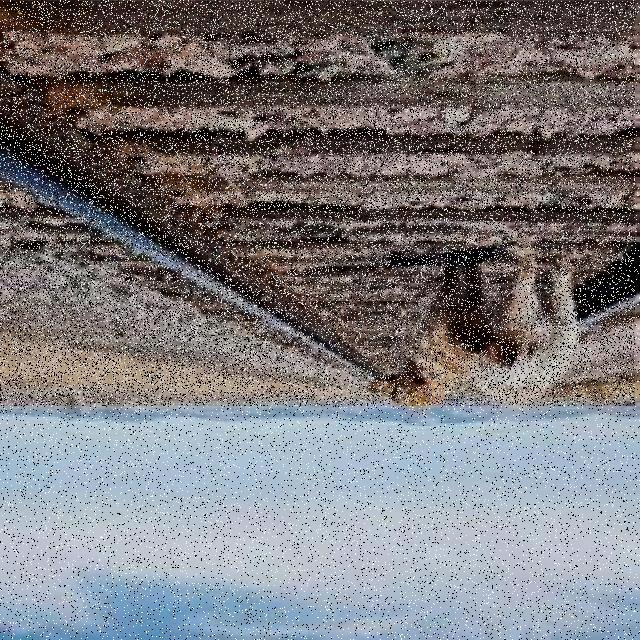rail: (1, 2, 636, 407)
